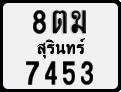letters: (51, 9, 68, 35), (70, 9, 87, 34), (25, 59, 40, 86), (43, 59, 58, 86), (61, 59, 76, 86), (31, 9, 47, 34), (80, 59, 94, 86)
province: (35, 37, 86, 59)
